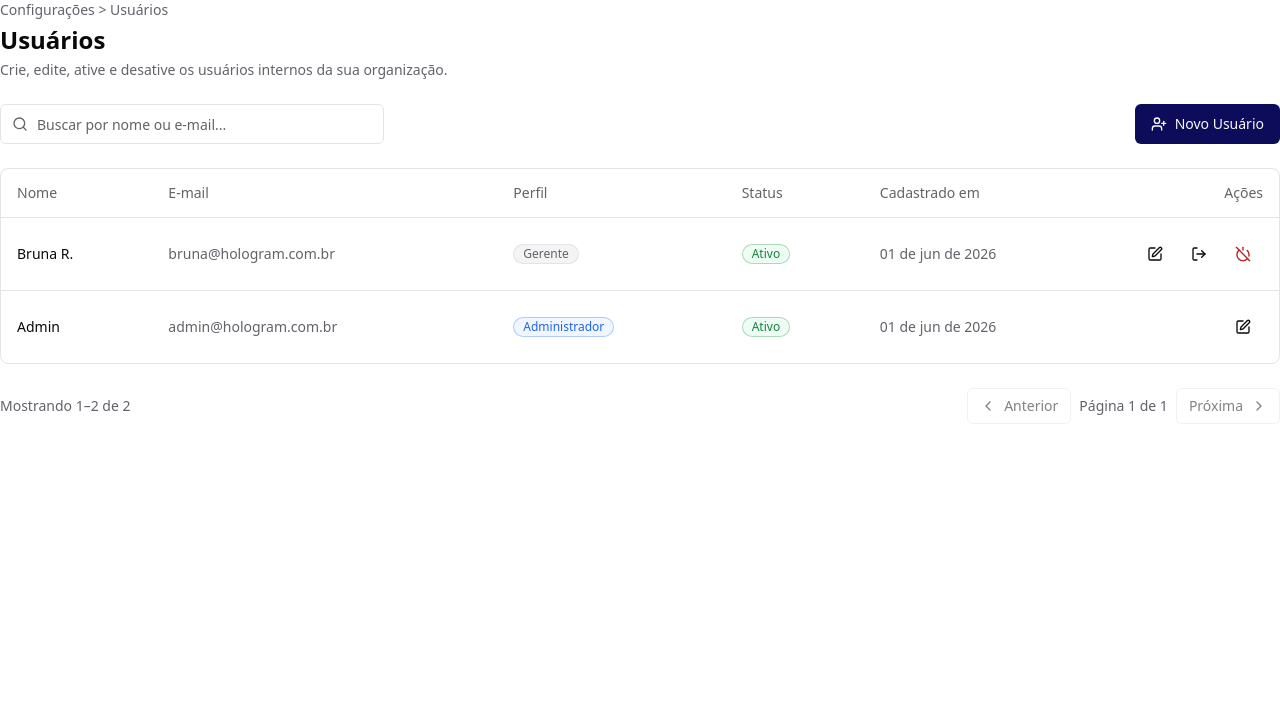
Encerrar sessões (86e3anx4u) — quem gere o staff, pela matriz › o admin da organização vê a ação em cada staff, menos na própria linha, e o diálogo manda o id
Click the button named "Encerrar sessões de Bruna R." at [1199, 254], box [1179,234,1219,274]
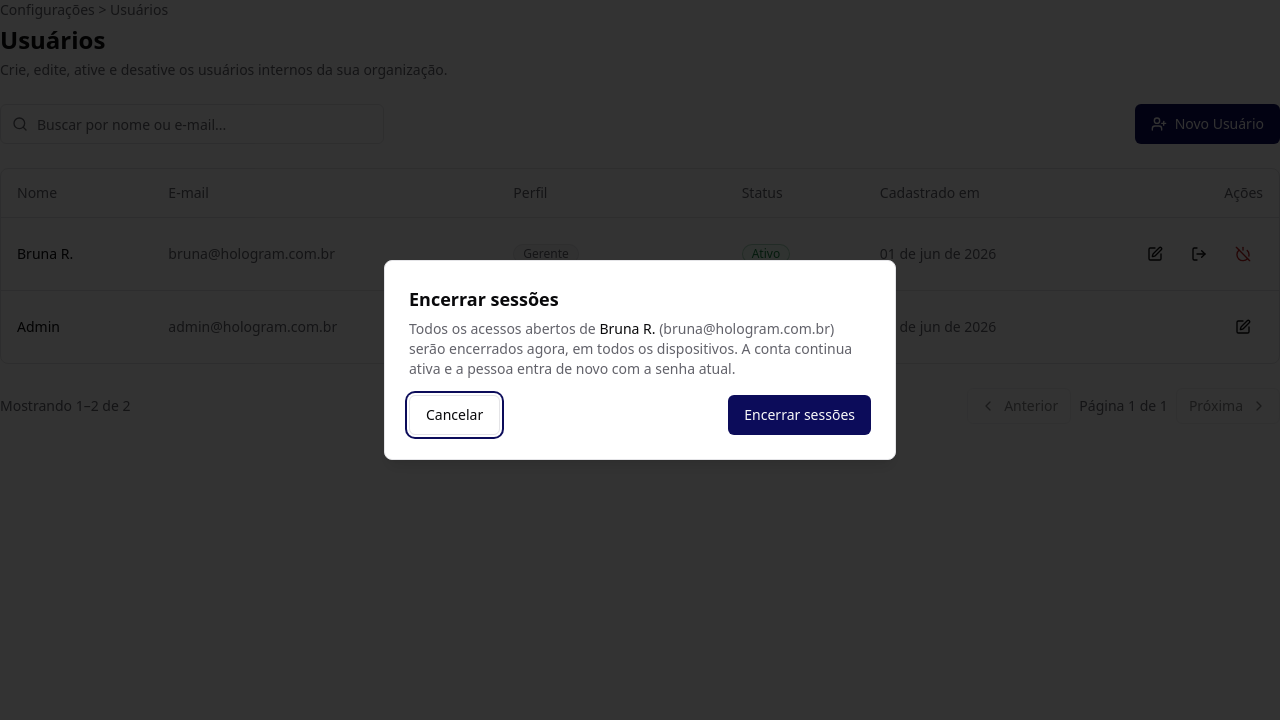
Check: the dialog "Encerrar sessões" shows "Bruna R.", box [599,319,656,338]
Check: the dialog "Encerrar sessões" shows "A conta continua ativa", box [409,319,852,378]
Click the button "Encerrar sessões" at [800, 415], box [728,395,871,435]
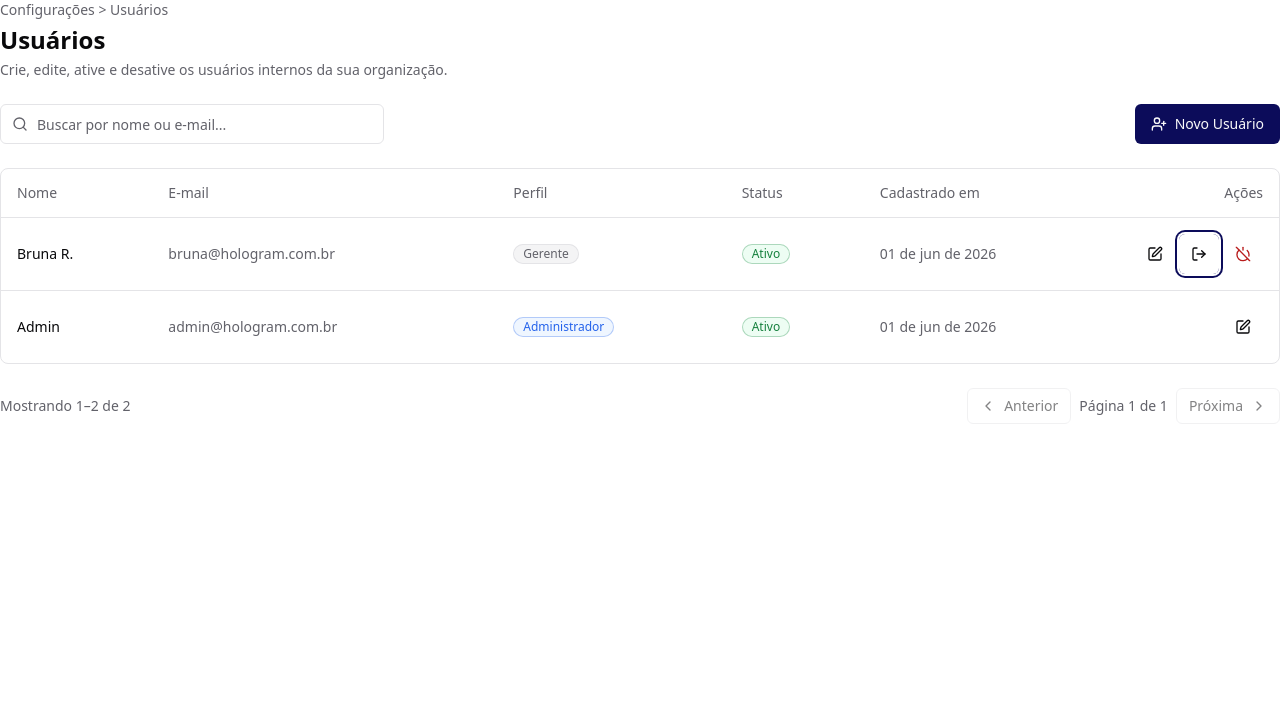
Check: the dialog is gone
